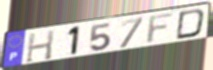1: (66, 25, 82, 57)
5: (90, 21, 113, 53)
7: (119, 17, 144, 49)
D: (174, 8, 207, 41)
F: (144, 10, 178, 46)
H: (24, 29, 56, 64)
